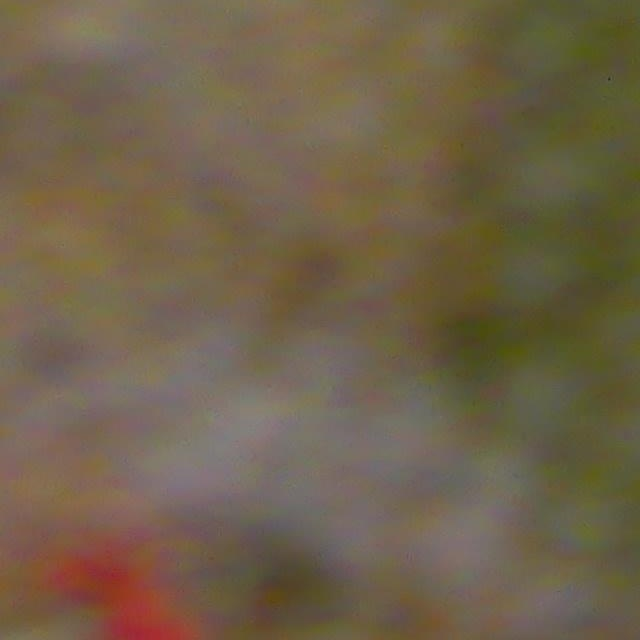SeaGrape: (434, 116, 626, 233), (493, 333, 614, 466), (464, 229, 622, 321), (497, 0, 635, 101), (563, 475, 638, 567)
